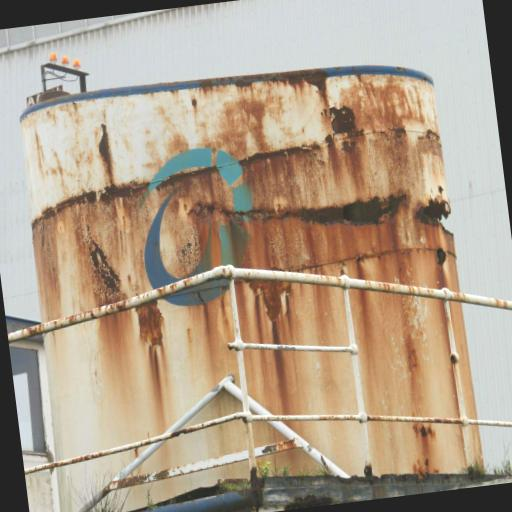segmentation: (33, 166, 255, 284), (240, 129, 437, 241), (264, 218, 399, 268), (326, 74, 438, 133), (243, 149, 338, 211), (303, 194, 406, 225), (87, 227, 126, 306), (269, 230, 336, 270), (337, 136, 366, 199), (249, 281, 291, 322), (136, 303, 164, 350), (416, 195, 450, 223), (330, 106, 355, 133)
